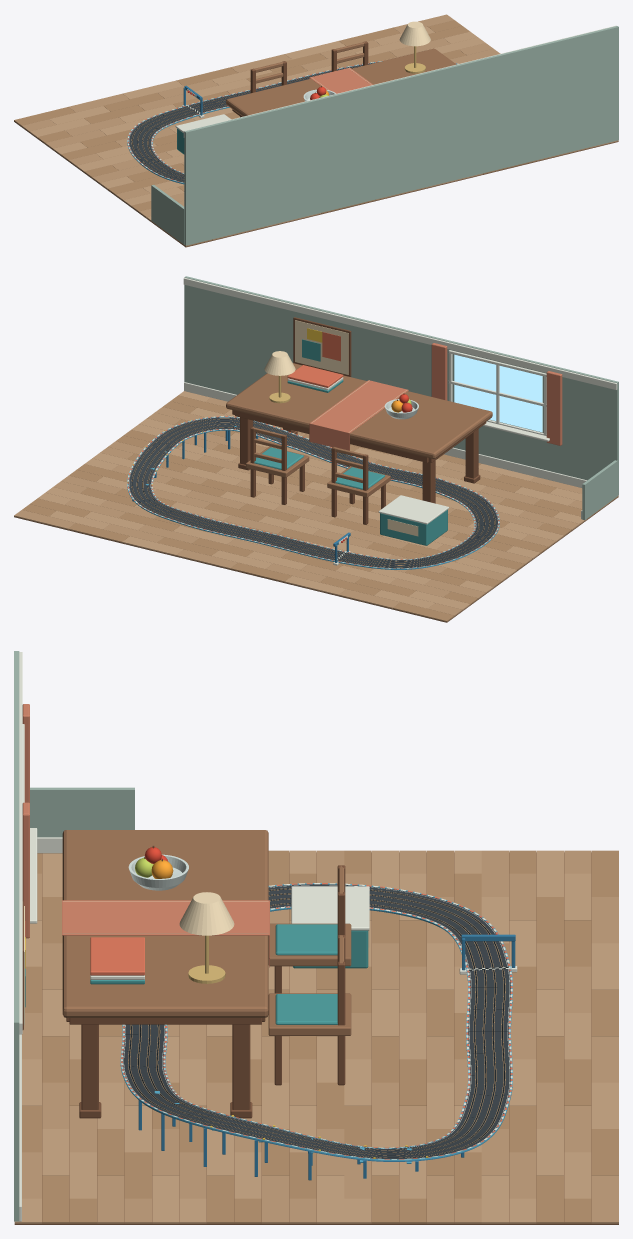
The model's file is dining-table-run.glb.
The picture shows the model from 3 angles, top to bottom: view 1: azimuth 30°, elevation 25°; view 2: azimuth 150°, elevation 25°; view 3: azimuth 270°, elevation 25°; orthographic projection. The views are drawn at different scales.
Visible parts, largest first — view 1: sage-back-wall, oak-floor-planks, dining-table-top, track-surface, west-cutaway-return, table-cloth-runner, floor-foundation, lamp-cream-shade, dining-chair-0, dining-chair-1, segmented-shoulder-kerbs, ivory-room-trim (+1 smaller); view 2: oak-floor-planks, sage-back-wall, track-surface, dining-table-top, ivory-room-trim, window-blue-sky, table-cloth-runner, terracotta-curtains, dining-chair-1, dining-table-legs, dining-chair-0, window-ivory-frame (+16 smaller); view 3: oak-floor-planks, dining-table-top, track-surface, table-cloth-runner, floor-foundation, west-cutaway-return, dining-table-legs, sage-back-wall, dining-chair-1, toy-track-box-lid, segmented-shoulder-kerbs, ivory-room-trim (+13 smaller).
Boxes of the visible parts, <box> form: sage-back-wall: <box>184,26,618,245</box>; oak-floor-planks: <box>14,14,618,246</box>; dining-table-top: <box>226,48,456,116</box>; track-surface: <box>128,62,376,182</box>; west-cutaway-return: <box>151,185,184,244</box>; table-cloth-runner: <box>310,68,373,93</box>; floor-foundation: <box>14,121,618,247</box>; lamp-cream-shade: <box>399,21,430,46</box>; dining-chair-0: <box>250,61,286,92</box>; dining-chair-1: <box>331,41,368,71</box>; segmented-shoulder-kerbs: <box>127,60,458,182</box>; ivory-room-trim: <box>183,25,616,137</box>; oak-floor-planks: <box>14,391,618,621</box>; sage-back-wall: <box>184,276,618,495</box>; track-surface: <box>128,417,498,568</box>; dining-table-top: <box>226,363,492,458</box>; ivory-room-trim: <box>183,277,617,519</box>; window-blue-sky: <box>454,354,542,432</box>; table-cloth-runner: <box>310,380,408,432</box>; terracotta-curtains: <box>431,343,562,445</box>; dining-chair-1: <box>246,427,309,504</box>; dining-table-legs: <box>238,417,480,503</box>; dining-chair-0: <box>327,446,390,524</box>; window-ivory-frame: <box>448,350,546,435</box>; oak-floor-planks: <box>14,850,618,1223</box>; dining-table-top: <box>62,830,268,1017</box>; track-surface: <box>123,884,510,1159</box>; table-cloth-runner: <box>62,900,269,935</box>; floor-foundation: <box>14,852,618,1224</box>; west-cutaway-return: <box>30,787,134,837</box>; dining-table-legs: <box>79,1024,252,1118</box>; sage-back-wall: <box>14,651,19,1221</box>; dining-chair-1: <box>268,935,351,1085</box>; toy-track-box-lid: <box>291,886,369,930</box>; segmented-shoulder-kerbs: <box>121,883,512,1159</box>; ivory-room-trim: <box>19,652,62,1221</box>.
Size of the model in its own units: 128 by 32.52 by 88.1.
